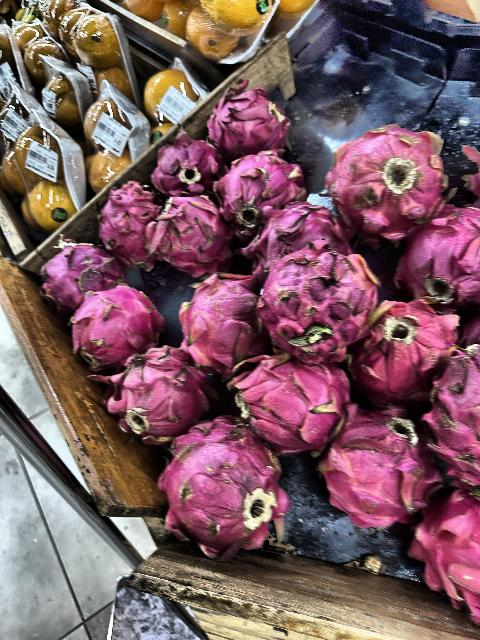buah-naga-matang: (152, 418, 292, 576), (318, 385, 440, 537), (241, 242, 395, 362), (222, 344, 354, 458), (320, 127, 446, 241), (359, 300, 457, 414), (168, 266, 268, 376), (93, 349, 209, 433), (398, 203, 480, 313), (57, 293, 170, 372), (240, 198, 360, 272), (420, 486, 480, 628), (426, 341, 480, 497), (209, 149, 305, 235), (138, 195, 234, 275), (34, 245, 133, 313), (95, 184, 165, 270), (194, 96, 290, 154), (146, 140, 228, 197)
